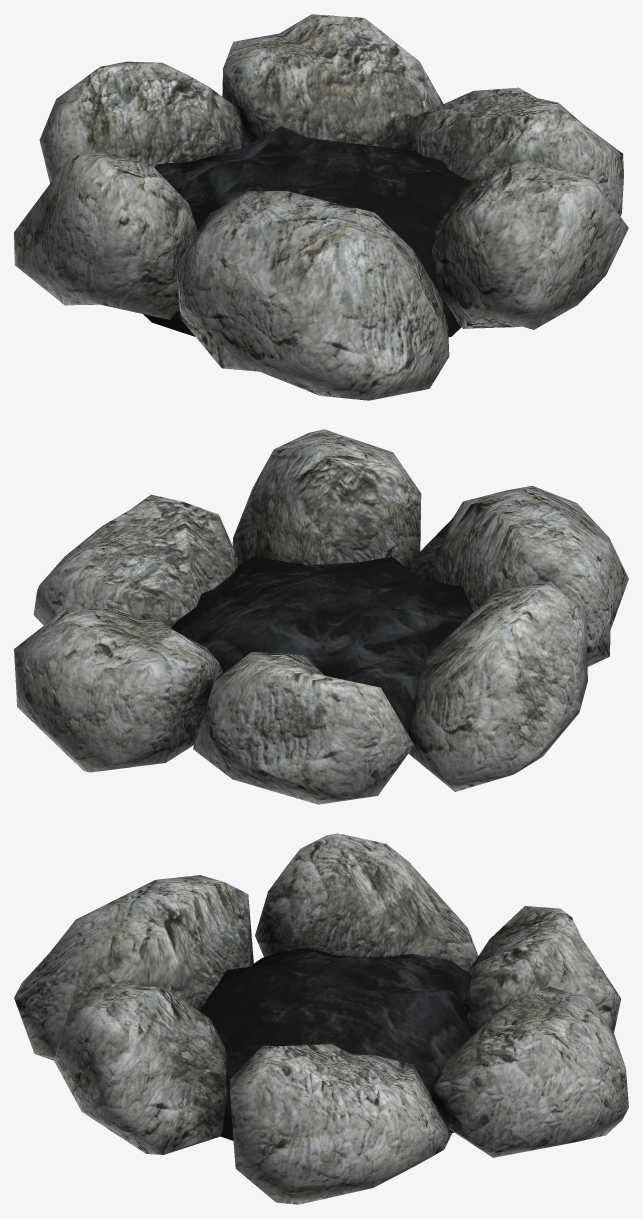
Rendered from campfire.obj.
3 views of the same model, one above another, from view 1: azimuth 30°, elevation 25°; view 2: azimuth 150°, elevation 25°; view 3: azimuth 270°, elevation 25° (orthographic). The views are drawn at different scales.
Parts seen in each view (by area): view 1: Sphere.001; view 2: Sphere.001; view 3: Sphere.001.
Part boxes in pixels (x1,y1,x2,y2): Sphere.001: (14, 14, 628, 400); Sphere.001: (14, 429, 628, 804); Sphere.001: (14, 833, 628, 1204).
Size of the model in its own units: 4.77 by 1.54 by 4.94.
Materials: 1 (1 with a texture image).
